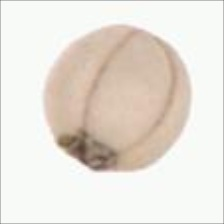L5: (83, 29, 175, 153), (52, 126, 126, 176)
L6: (39, 22, 193, 177)
